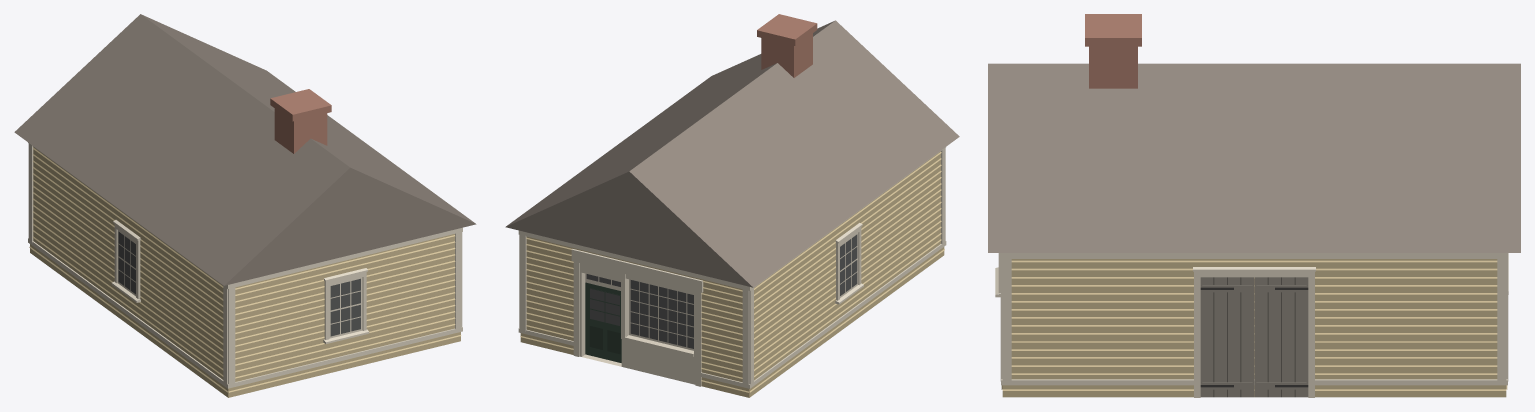
Rendered from recon_1835_core_c1_059__inferred_1835.glb.
The picture shows the model from 3 angles, left to right: view 1: azimuth 30°, elevation 25°; view 2: azimuth 150°, elevation 25°; view 3: azimuth 270°, elevation 25°; orthographic projection. The views are drawn at different scales.
Visible parts, largest first — view 1: recon_1835_core_c1_059__inferred_1835; view 2: recon_1835_core_c1_059__inferred_1835; view 3: recon_1835_core_c1_059__inferred_1835.
Part boxes in pixels (bbox=[...]): recon_1835_core_c1_059__inferred_1835: bbox=[14, 14, 476, 397]; recon_1835_core_c1_059__inferred_1835: bbox=[505, 14, 959, 397]; recon_1835_core_c1_059__inferred_1835: bbox=[988, 14, 1520, 397].
Bounding box in the file's own units: 6.34 × 5.66 × 9.13.
